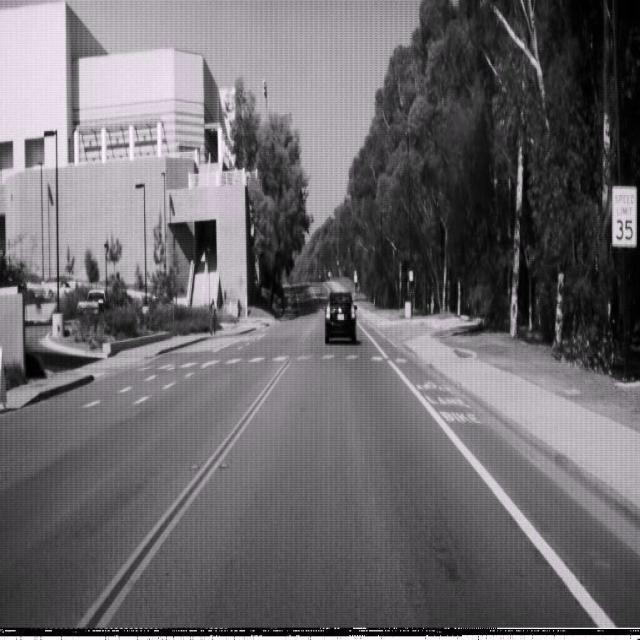speedLimit35: (611, 184, 637, 248)
